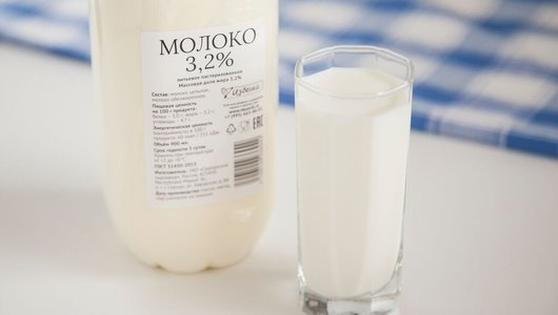milk: (98, 1, 284, 280)
